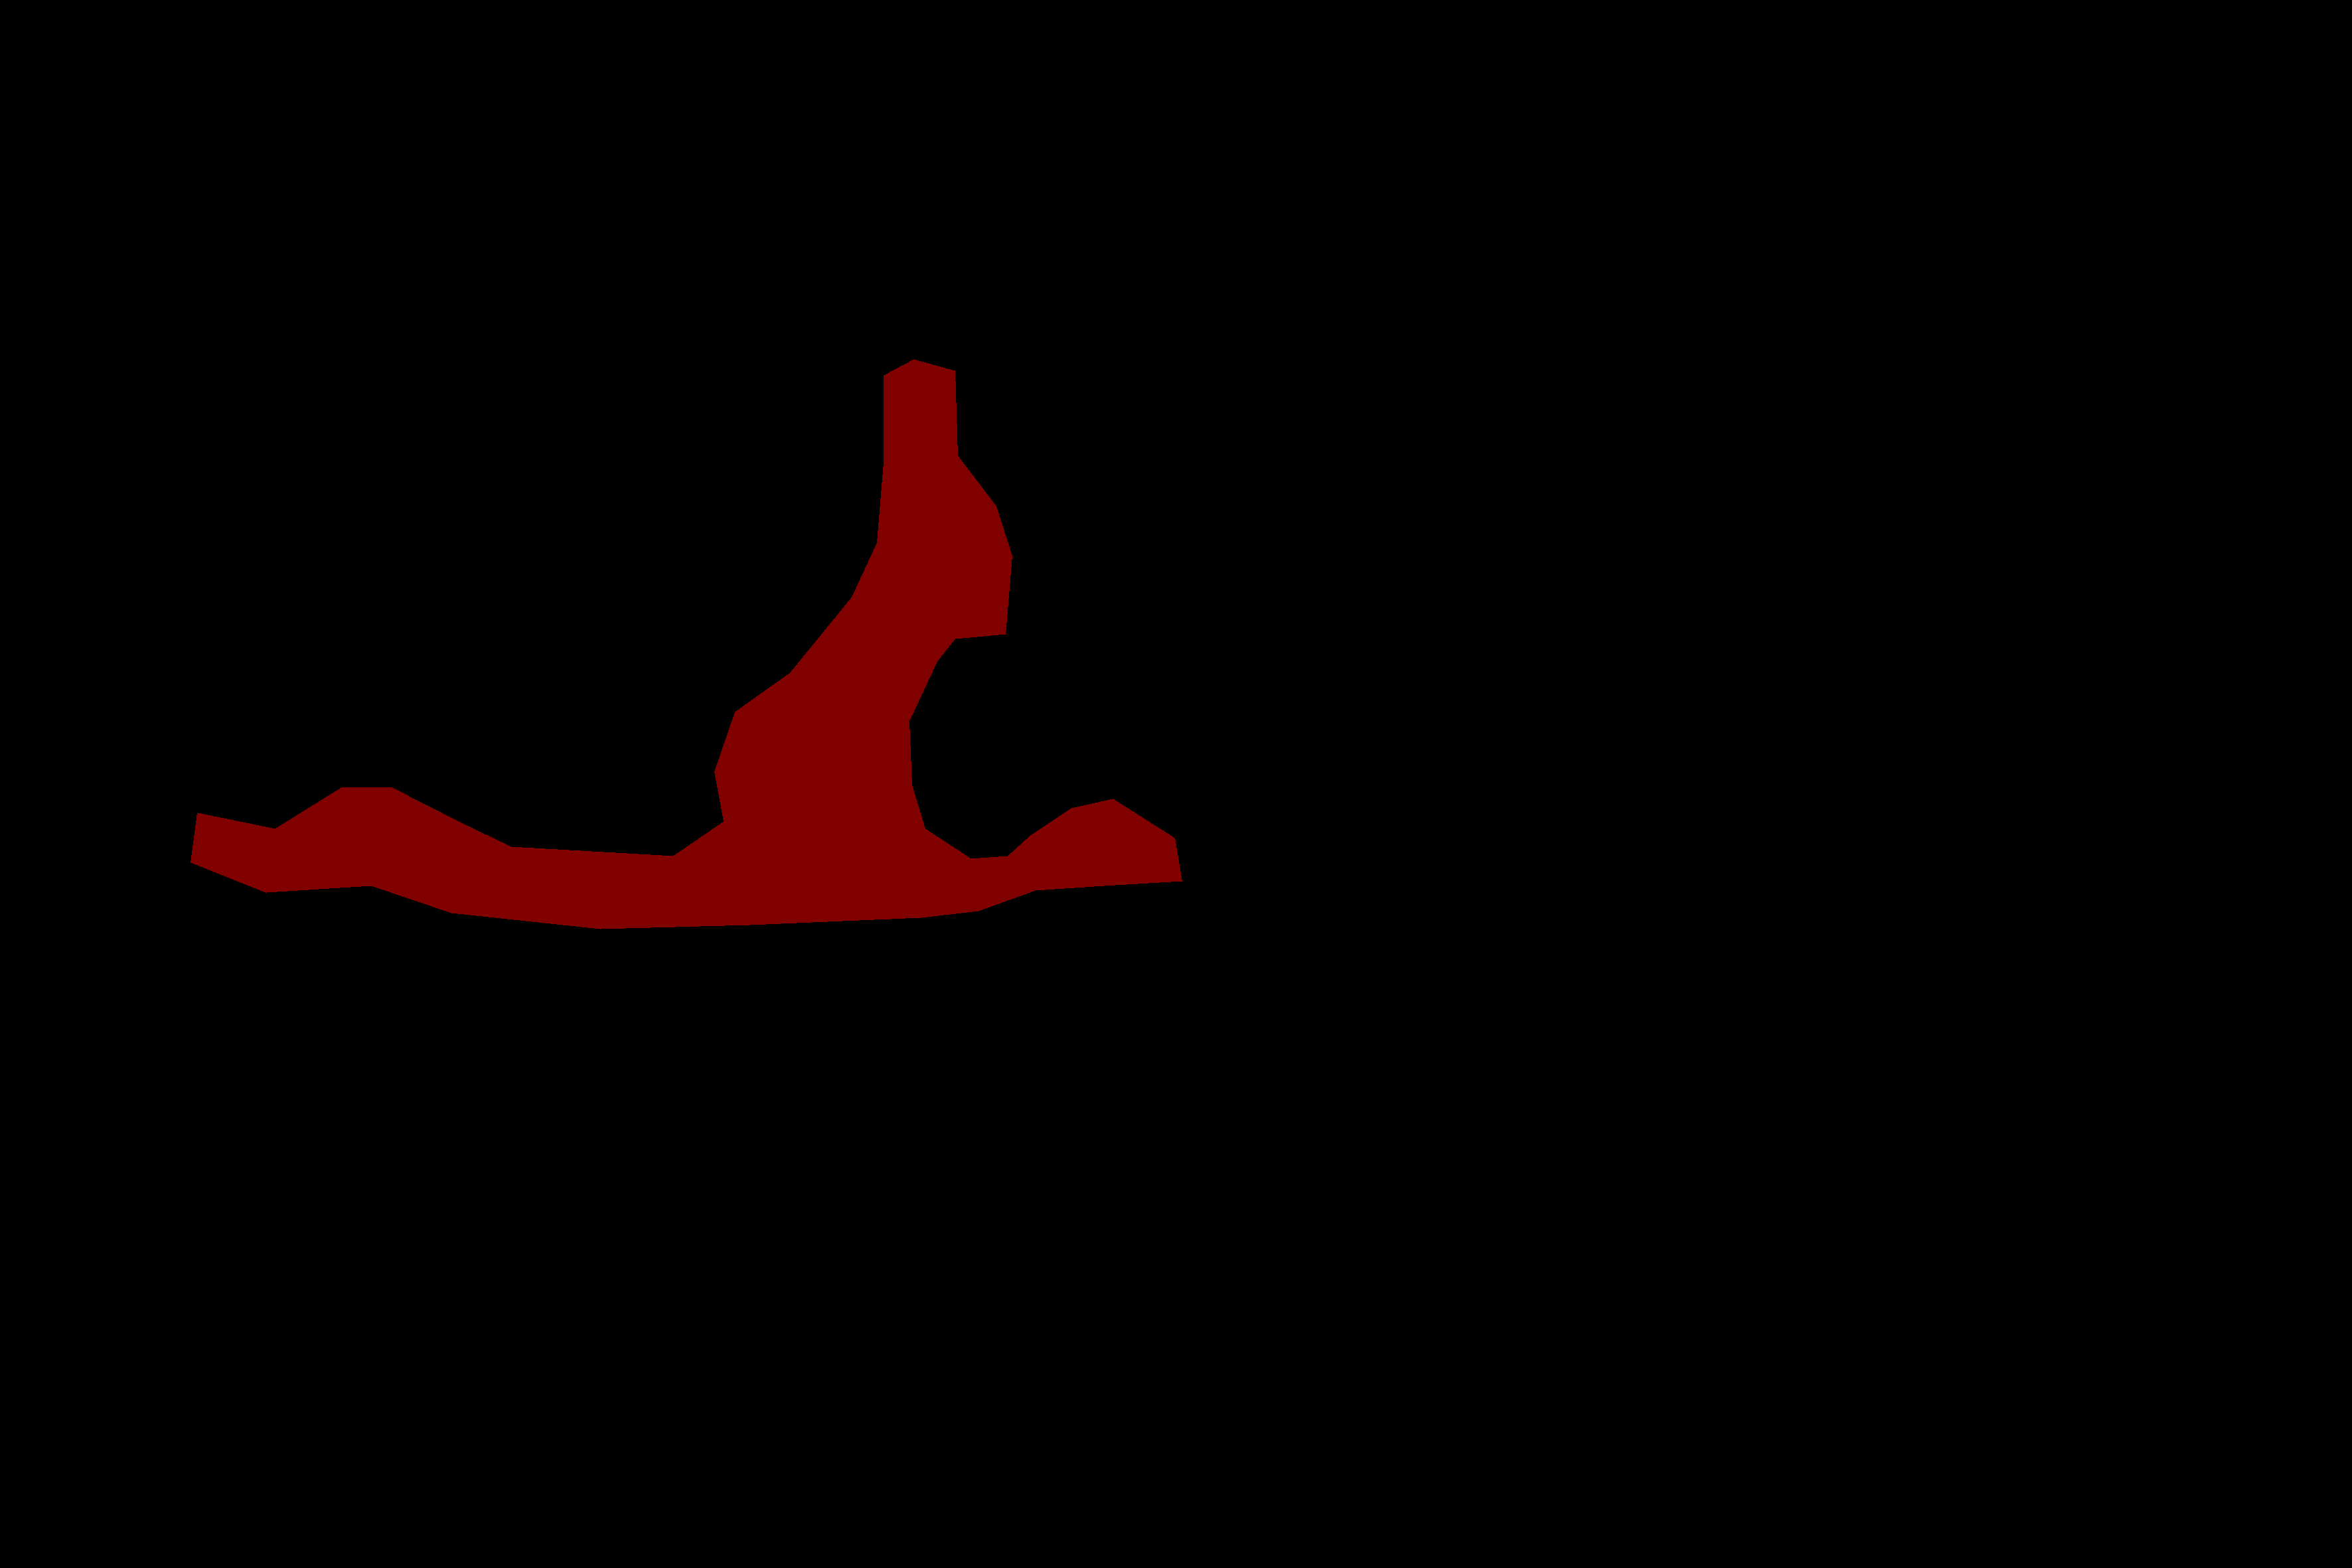fire: (191, 359, 1181, 929)
